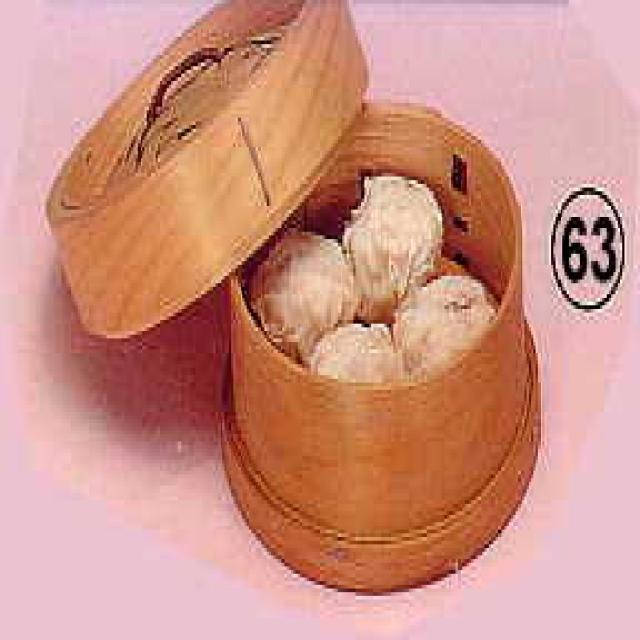带馅早点: (256, 151, 494, 357)
